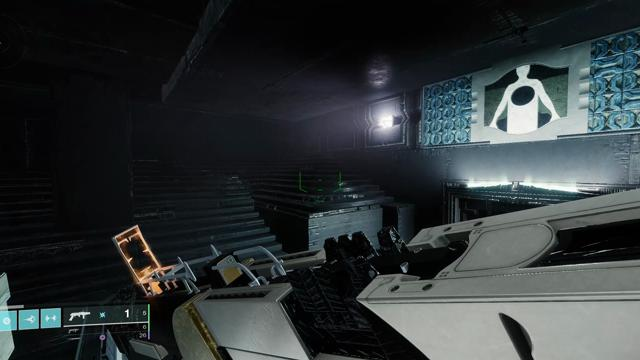grief: (484, 64, 568, 134)
